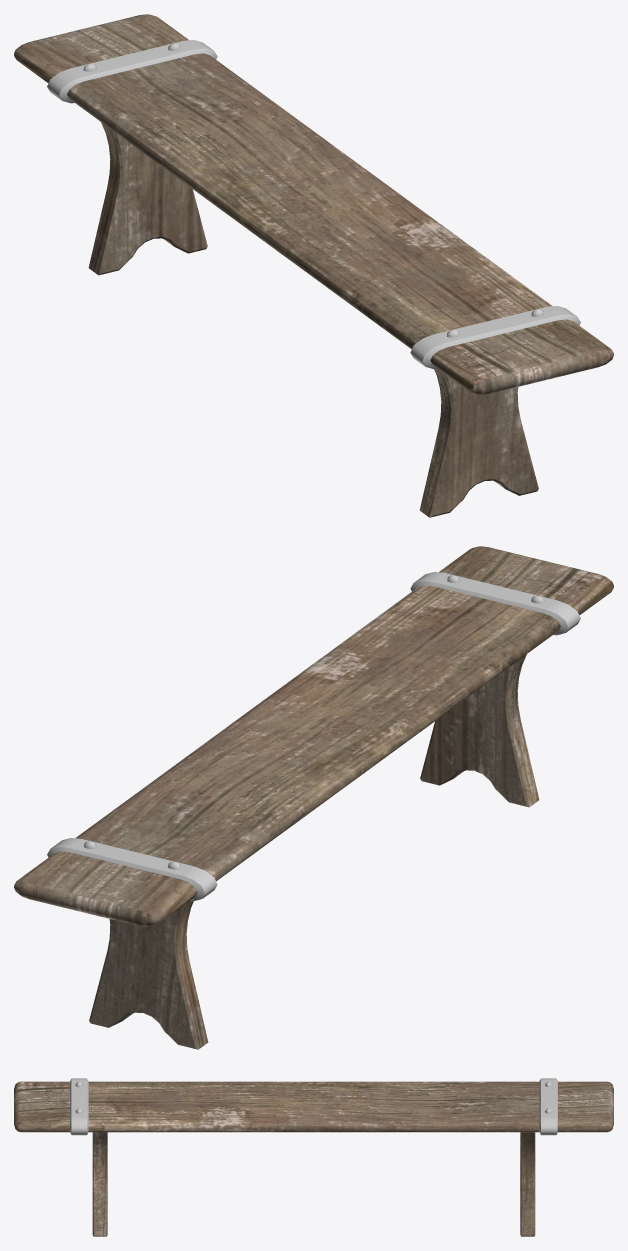
Rendered from SM_Bench.fbx.
The picture shows the model from 3 angles, top to bottom: view 1: azimuth 30°, elevation 25°; view 2: azimuth 150°, elevation 25°; view 3: azimuth 270°, elevation 25°; orthographic projection. The views are drawn at different scales.
Parts seen in each view (by area): view 1: SM_Bench_LOD0; view 2: SM_Bench_LOD0; view 3: SM_Bench_LOD0.
Part boxes in pixels (left/top/right/bottom): SM_Bench_LOD0: left=14, top=14, right=613, bottom=517; SM_Bench_LOD0: left=14, top=546, right=613, bottom=1049; SM_Bench_LOD0: left=14, top=1078, right=613, bottom=1236.
Size of the model in its own units: 43.03 by 218 by 49.86.
